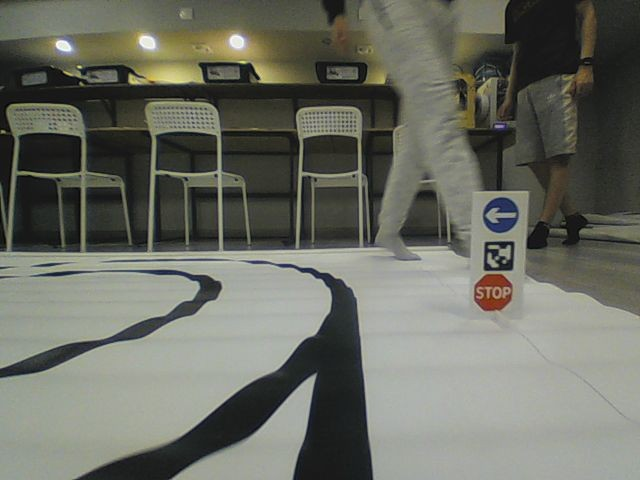Stop: (472, 272, 514, 312)
